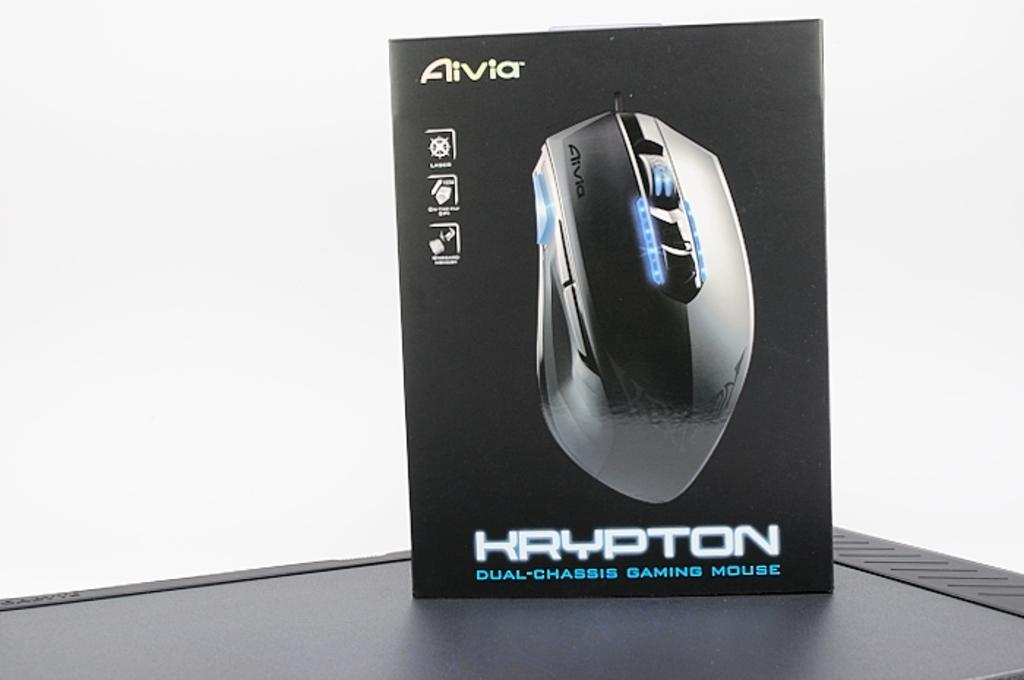Computer-mouse: (534, 102, 756, 497)
